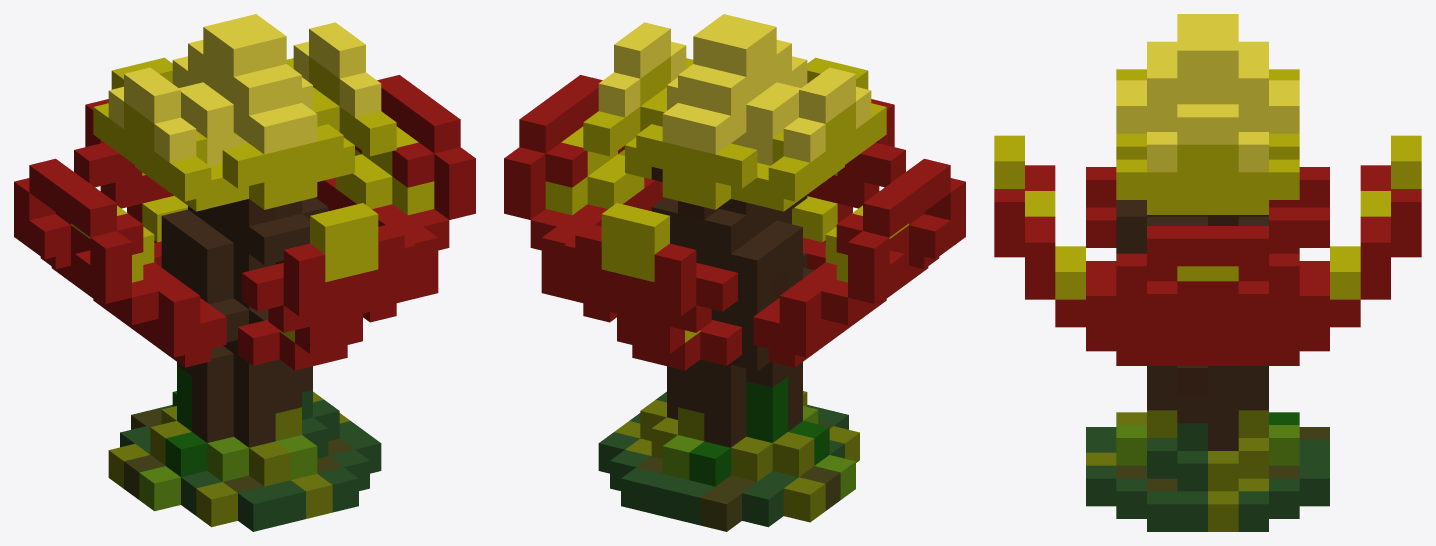
File: Isabella_Vega_Heredia_fase_3.obj
3 views of the same model, side by side, from view 1: azimuth 30°, elevation 25°; view 2: azimuth 150°, elevation 25°; view 3: azimuth 270°, elevation 25° (orthographic).
Visible parts, largest first — view 1: Isabella_Vega_Heredia_fase_3; view 2: Isabella_Vega_Heredia_fase_3; view 3: Isabella_Vega_Heredia_fase_3.
Part boxes in pixels (left/top/right/bottom): Isabella_Vega_Heredia_fase_3: left=14, top=14, right=475, bottom=531; Isabella_Vega_Heredia_fase_3: left=504, top=14, right=965, bottom=531; Isabella_Vega_Heredia_fase_3: left=994, top=14, right=1421, bottom=531.
Bounding box in the file's own units: 14 × 16 × 14.
1 material, 1 textured.
